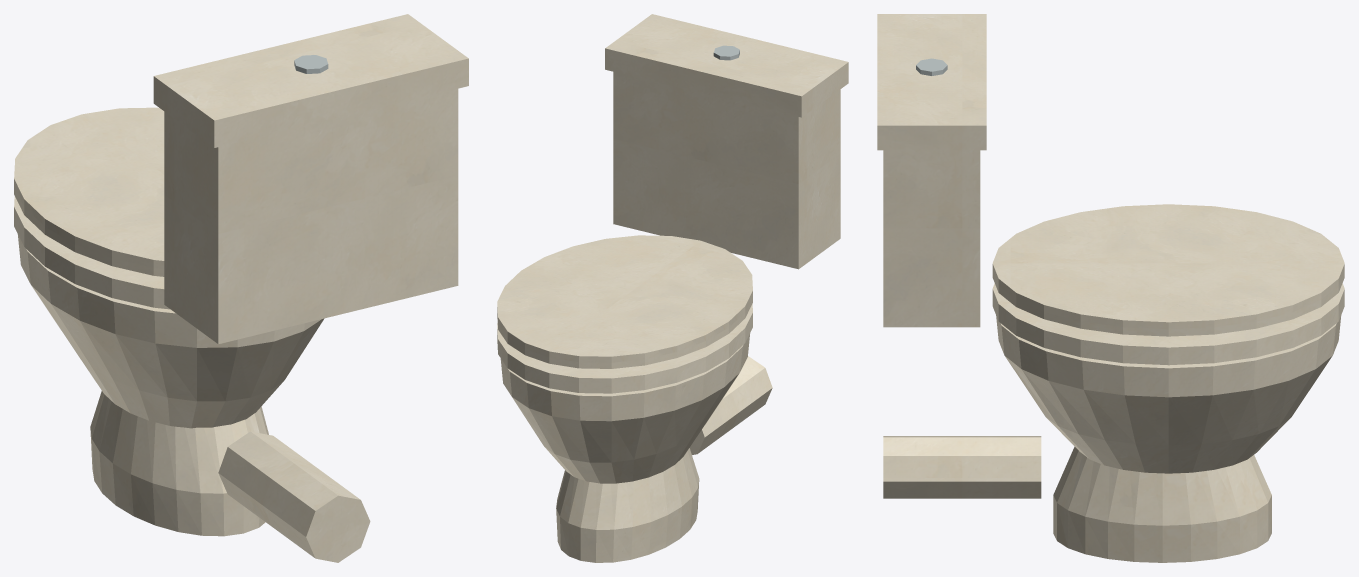
File: bath-toilet-cistern.gltf
3 renders of one model, left to right at view 1: azimuth 30°, elevation 25°; view 2: azimuth 150°, elevation 25°; view 3: azimuth 270°, elevation 25°, orthographic. The views are drawn at different scales.
Visible parts, largest first — view 1: fixture-ceramic, lid-ceramic, fittings-ceramic, seat-ceramic, fittings-metal; view 2: fixture-ceramic, lid-ceramic, seat-ceramic, fittings-ceramic; view 3: fixture-ceramic, lid-ceramic, seat-ceramic, fittings-ceramic.
Part boxes in pixels (x1,y1,x2,y2): fixture-ceramic: (17,14,468,536); lid-ceramic: (14,107,164,276); fittings-ceramic: (218,431,370,562); seat-ceramic: (14,196,169,309); fittings-metal: (294,55,328,73); fixture-ceramic: (500,14,848,562); lid-ceramic: (497,235,752,368); seat-ceramic: (497,304,752,393); fittings-ceramic: (689,356,772,454); fixture-ceramic: (877,14,1341,562); lid-ceramic: (992,204,1344,336); seat-ceramic: (992,283,1344,365); fittings-ceramic: (883,436,1041,498).
Size of the model in its own units: 0.46 by 0.851 by 0.77.
Materials: 3 (1 with a texture image).
